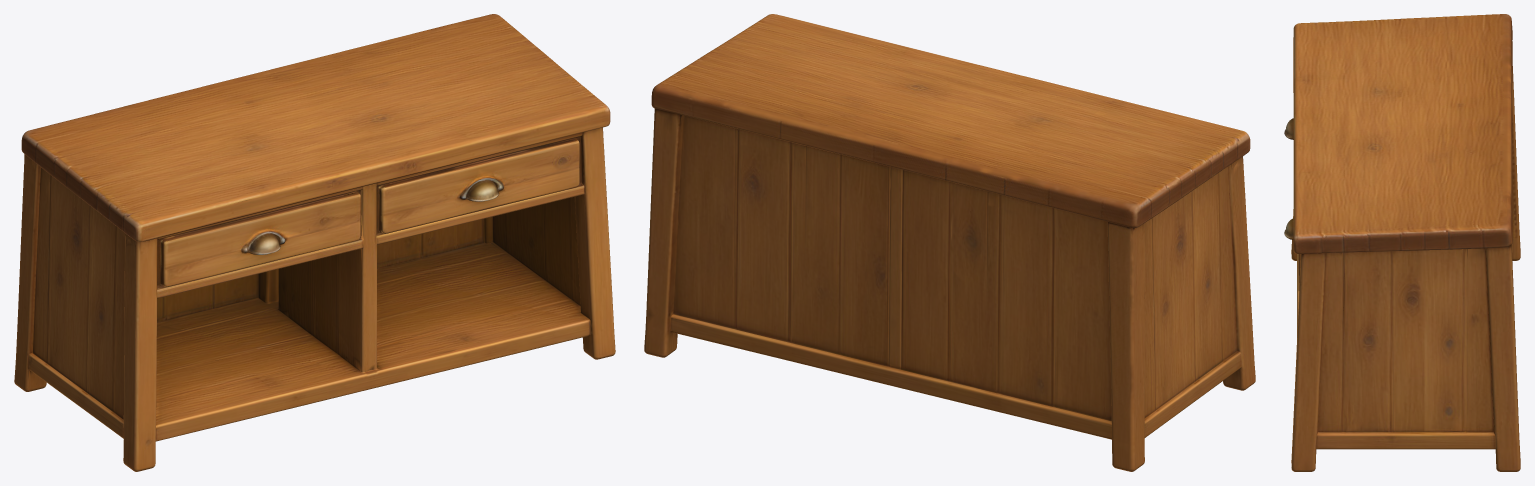
Rendered from small_cupboard.glb.
3 views of the same model, side by side, from view 1: azimuth 30°, elevation 25°; view 2: azimuth 150°, elevation 25°; view 3: azimuth 270°, elevation 25° (orthographic). The views are drawn at different scales.
Parts seen in each view (by area): view 1: node_0; view 2: node_0; view 3: node_0.
Boxes of the visible parts, box(x1,y1,x2,y2) form: node_0: box(14, 14, 615, 471); node_0: box(644, 14, 1255, 471); node_0: box(1284, 14, 1520, 471).
Bounding box in the file's own units: 0.9973 × 0.5145 × 0.4506.
1 material, 1 textured.
